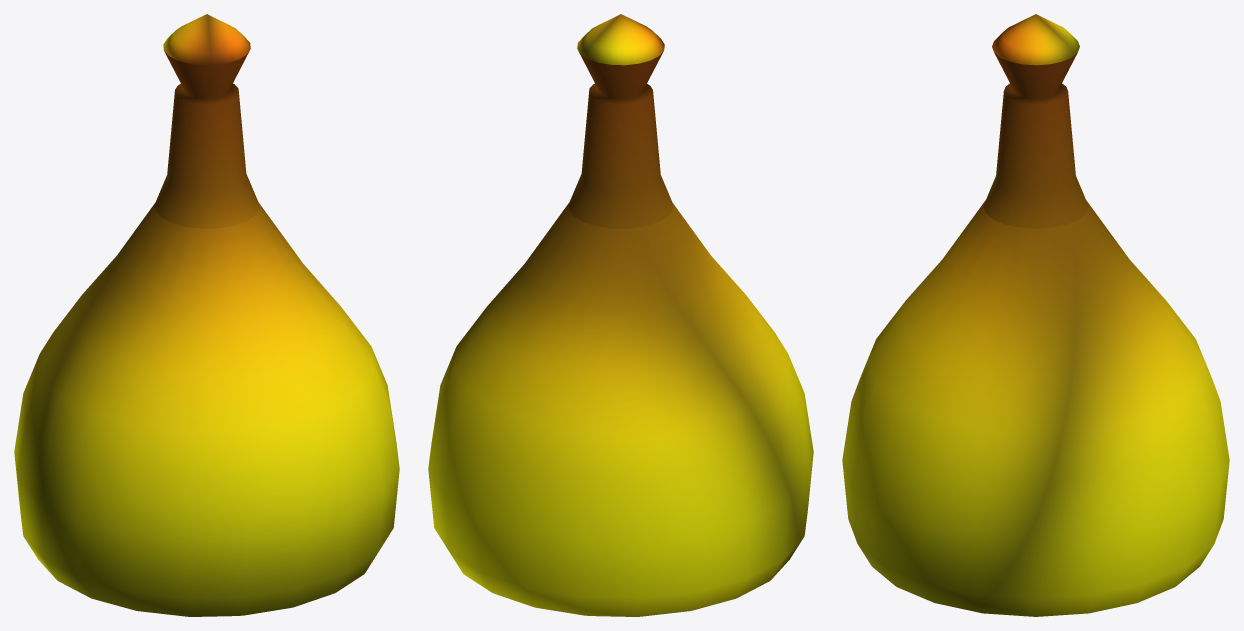
Rendered from potion2.fbx.
3 renders of one model, left to right at view 1: azimuth 30°, elevation 25°; view 2: azimuth 150°, elevation 25°; view 3: azimuth 270°, elevation 25°, orthographic.
Visible parts, largest first — view 1: pCylinder1; view 2: pCylinder1; view 3: pCylinder1.
Boxes of the visible parts, x1=… form: pCylinder1: x1=14, y1=14, x2=399, y2=616; pCylinder1: x1=428, y1=14, x2=813, y2=616; pCylinder1: x1=842, y1=14, x2=1229, y2=616.
Bounding box in the file's own units: 2.35 × 3.78 × 2.35.
